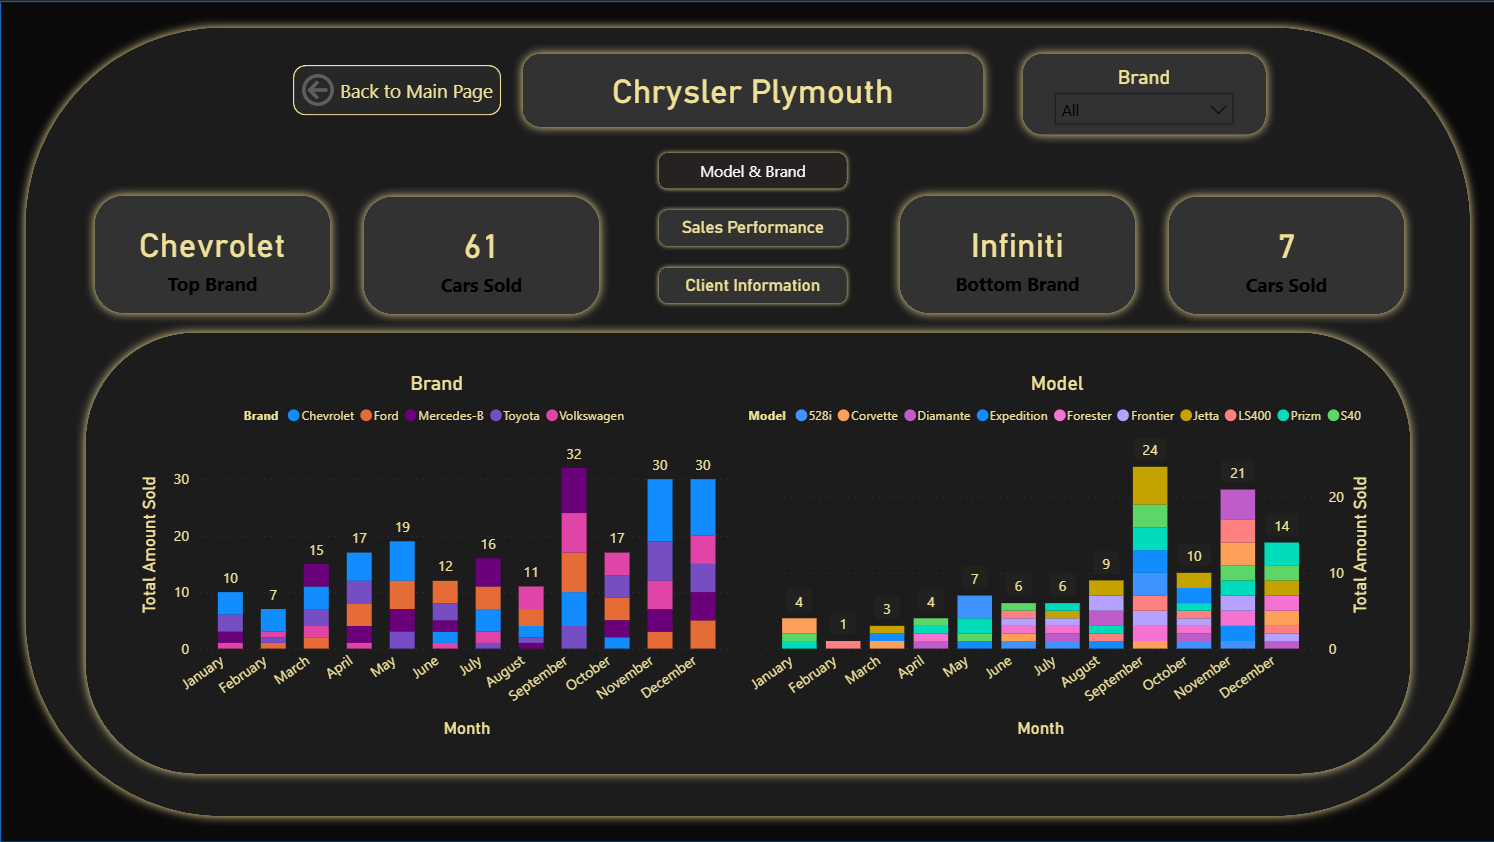

Layout of this report page (visuals, bound fields, positions):
{"tool":"powerbi","page":{"name":"Drill Through (Dealership)","canvas":[1280,720],"ordinal":1},"visuals":[{"type":"shape","title":"Final BG","box":[0,0.2,1280,719.8],"z":0},{"type":"shape","title":"Visual BG","box":[438.1,36.6,410.6,79.2],"z":0,"group":"g5"},{"type":"shape","title":"Visual BG","box":[865.7,37,224.4,85.7],"z":0,"group":"g9"},{"type":"group","id":"g1","title":"Bottom Brand (Brand)","box":[66.6,157.8,229.9,116.9],"z":0,"group":"g7"},{"type":"shape","title":"Visual BG","box":[72.4,157.8,218.1,116.9],"z":0,"group":"g1"},{"type":"group","id":"g2","title":"Bottom Brand (Brand)","box":[754.5,157.8,229.9,116.9],"z":0,"group":"g6"},{"type":"shape","title":"Visual BG","box":[760.3,157.8,218.1,116.9],"z":0,"group":"g2"},{"type":"shape","title":"Visual BG","box":[302.4,158.8,218.1,116.9],"z":0,"group":"g3"},{"type":"shape","title":"Visual BG","box":[990.3,158.8,218.1,116.9],"z":0,"group":"g4"},{"type":"shape","title":"Graph BG","box":[69.1,275.4,1148.5,393.1],"z":0,"group":"g8"},{"type":"shape","title":"Dashboard BG","box":[13.4,14.4,1251.7,690.9],"z":1000,"group":"g10"},{"type":"card","fields":{"Values":["Min(Main Reference.Dealer_Name)"]},"box":[459.8,50.5,367.6,50.2],"z":1000,"group":"g5"},{"type":"slicer","title":"Brand","fields":{"Values":["Main Reference.Brand"]},"box":[891.6,55,172.5,75.6],"z":1000,"group":"g9"},{"type":"group","id":"g3","title":"Cars Sold (Brand)","box":[296.5,158.8,230.9,116.9],"z":1000,"group":"g7"},{"type":"group","id":"g4","title":"Cars Sold (Brand)","box":[984.4,158.8,230.9,116.9],"z":1000,"group":"g6"},{"type":"card","fields":{"Values":["Min(Main Reference.Brand)"]},"box":[66.6,168.6,229.9,96.3],"z":1000,"group":"g1"},{"type":"card","fields":{"Values":["Min(Main Reference.Brand)"]},"box":[754.5,168.6,229.9,96.3],"z":1000,"group":"g2"},{"type":"card","fields":{"Values":["CountNonNull(Main Reference.Brand)"]},"box":[296.5,169.6,229.9,96.3],"z":1000,"group":"g3"},{"type":"card","fields":{"Values":["CountNonNull(Main Reference.Brand)"]},"box":[984.4,169.6,229.9,96.3],"z":1000,"group":"g4"},{"type":"donutChart","fields":{"Category":["Main Reference.Body Style"],"Y":["CountNonNull(Main Reference.Body Style)"]},"box":[892.1,375,300,200],"z":1000,"group":"g8"},{"type":"group","id":"g5","title":"Header","box":[438.1,36.6,410.6,79.2],"z":2000,"group":"g10"},{"type":"donutChart","fields":{"Category":["Main Reference.Gender"],"Y":["CountNonNull(Main Reference.Gender)"]},"box":[92,375,300,200],"z":2000,"group":"g8"},{"type":"group","id":"g6","title":"Bottom Performers","box":[754.5,157.8,460.1,118.4],"z":3000,"group":"g10"},{"type":"donutChart","fields":{"Category":["Main Reference.Color"],"Y":["CountNonNull(Main Reference.Color)"]},"box":[625.4,375,300,200],"z":3000,"group":"g8"},{"type":"donutChart","fields":{"Category":["Main Reference.Annual Income Range (DAX & Short)"],"Y":["CountNonNull(Main Reference.Annual Income Range (DAX & Short))"]},"box":[358.7,375,300,200],"z":3500,"group":"g8"},{"type":"group","id":"g7","title":"Top Performers","box":[66.6,157.8,460.1,118.4],"z":4000,"group":"g10"},{"type":"group","id":"g8","title":"Client Information","box":[69.1,275.4,1148.5,393.1],"z":8000,"group":"g10"},{"type":"group","id":"g9","title":"Brand Slicer","box":[865.7,37,223.4,91.9],"z":9500,"group":"g10"},{"type":"actionButton","title":"Return Button","box":[250.1,54.4,178,43.1],"z":9750,"group":"g10"},{"type":"bookmarkNavigator","box":[558.9,125.2,169.1,139.5],"z":10000,"group":"g10"},{"type":"group","id":"g10","title":"Main Dashboard","box":[13.4,14.4,1252.2,691.7],"z":10001}]}

Visuals, with their boxes in screenshot pixels (x1, y1, x2, y2), scaled from the page's 1280x720 canvas onto the 1494x842 screenshot:
"Final BG" shape: [0,0,1493,841]
"Visual BG" shape: [511,43,991,135]
"Visual BG" shape: [1010,43,1272,143]
"Bottom Brand (Brand)" group: [78,185,346,321]
"Visual BG" shape: [85,185,339,321]
"Bottom Brand (Brand)" group: [881,185,1149,321]
"Visual BG" shape: [887,185,1142,321]
"Visual BG" shape: [353,186,608,322]
"Visual BG" shape: [1156,186,1410,322]
"Graph BG" shape: [81,322,1421,782]
"Dashboard BG" shape: [16,17,1477,825]
card - Min(Main Reference.Dealer_Name): [537,59,966,118]
"Brand" slicer: [1041,64,1242,153]
"Cars Sold (Brand)" group: [346,186,616,322]
"Cars Sold (Brand)" group: [1149,186,1418,322]
card - Min(Main Reference.Brand): [78,197,346,310]
card - Min(Main Reference.Brand): [881,197,1149,310]
card - CountNonNull(Main Reference.Brand): [346,198,614,311]
card - CountNonNull(Main Reference.Brand): [1149,198,1417,311]
donutChart - Main Reference.Body Style x CountNonNull(Main Reference.Body Style): [1041,439,1391,672]
"Header" group: [511,43,991,135]
donutChart - Main Reference.Gender x CountNonNull(Main Reference.Gender): [107,439,458,672]
"Bottom Performers" group: [881,185,1418,323]
donutChart - Main Reference.Color x CountNonNull(Main Reference.Color): [730,439,1080,672]
donutChart - Main Reference.Annual Income Range (DAX & Short) x CountNonNull(Main Reference.Annual Income Range (DAX & Short)): [419,439,769,672]
"Top Performers" group: [78,185,615,323]
"Client Information" group: [81,322,1421,782]
"Brand Slicer" group: [1010,43,1271,151]
"Return Button" actionButton: [292,64,500,114]
bookmarkNavigator: [652,146,850,310]
"Main Dashboard" group: [16,17,1477,826]
